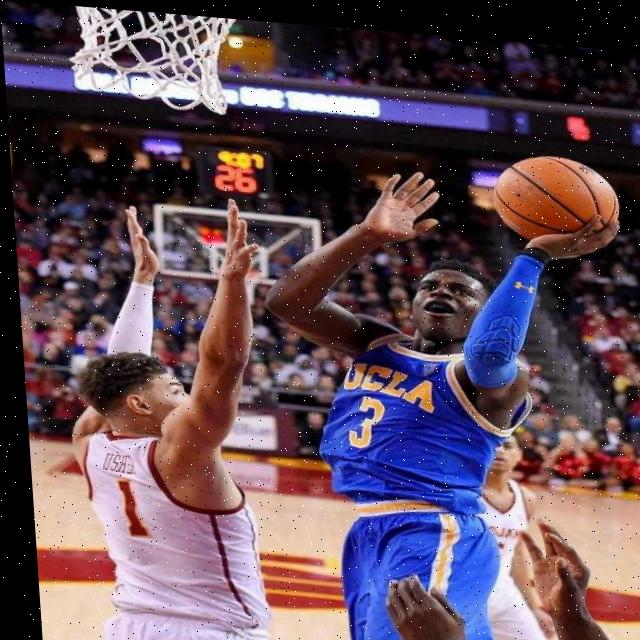basketball: (489, 149, 625, 250)
hoop: (62, 5, 246, 120)
